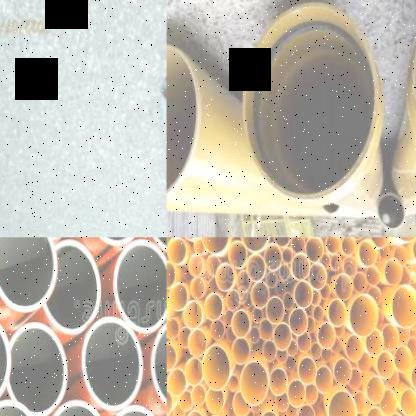pipe: (242, 3, 378, 200), (7, 322, 68, 416), (42, 240, 101, 335), (83, 317, 143, 410), (113, 240, 167, 334), (166, 44, 197, 201), (0, 237, 58, 312), (150, 318, 166, 413), (201, 345, 231, 391), (240, 360, 269, 406), (349, 294, 379, 337), (392, 285, 416, 329), (328, 389, 357, 416), (187, 328, 208, 358), (184, 300, 204, 329), (294, 280, 314, 309), (298, 356, 318, 384), (366, 376, 385, 405), (167, 368, 186, 397), (269, 367, 288, 396), (314, 365, 333, 394), (168, 282, 187, 311), (185, 357, 203, 387), (317, 321, 336, 349), (289, 308, 308, 336), (204, 293, 223, 321), (288, 379, 306, 408), (266, 296, 284, 325), (384, 258, 403, 285), (263, 243, 282, 270), (228, 241, 247, 268), (376, 351, 394, 379), (394, 345, 412, 373), (366, 329, 384, 357), (382, 323, 400, 351), (273, 322, 291, 350), (232, 310, 250, 338), (328, 299, 346, 327), (335, 273, 353, 301), (216, 263, 234, 291), (247, 253, 265, 281), (292, 252, 310, 280), (308, 263, 327, 289), (399, 387, 416, 416), (200, 237, 229, 254), (206, 388, 224, 415), (334, 358, 352, 385), (232, 338, 250, 365), (346, 335, 364, 362), (251, 282, 269, 309), (359, 239, 377, 266), (168, 237, 186, 264), (380, 388, 397, 416), (305, 238, 324, 262), (232, 391, 250, 416), (239, 237, 269, 252), (188, 254, 204, 276), (209, 319, 225, 340), (191, 385, 206, 407), (190, 278, 205, 300), (206, 255, 221, 277), (353, 391, 367, 414), (274, 392, 290, 412), (296, 332, 312, 352), (393, 245, 408, 266), (179, 390, 193, 412), (348, 368, 362, 390), (262, 340, 276, 362), (178, 326, 192, 348), (352, 271, 366, 293), (237, 270, 251, 292), (367, 286, 382, 306), (343, 256, 358, 276), (358, 352, 372, 373), (260, 319, 274, 340), (226, 290, 240, 311), (166, 342, 176, 371), (166, 260, 176, 289), (304, 384, 318, 404), (366, 266, 380, 285), (342, 237, 356, 256), (326, 237, 341, 254), (166, 318, 178, 339), (310, 341, 322, 360), (385, 372, 399, 388), (406, 336, 416, 358), (297, 404, 315, 416), (290, 238, 305, 252), (286, 340, 298, 357), (398, 327, 410, 344), (330, 254, 342, 271), (249, 326, 260, 344), (283, 292, 294, 310), (330, 338, 342, 354), (312, 306, 324, 322), (278, 264, 290, 280), (266, 271, 277, 288), (228, 374, 238, 392), (252, 308, 263, 324), (320, 284, 331, 300), (183, 266, 194, 282), (282, 247, 293, 263), (194, 238, 205, 254), (410, 362, 416, 391), (276, 349, 287, 364), (272, 238, 290, 247), (286, 356, 296, 372), (226, 326, 236, 342), (306, 316, 316, 332), (311, 290, 321, 306), (320, 253, 330, 269), (275, 281, 286, 295), (379, 245, 390, 259), (224, 310, 233, 327), (243, 292, 252, 308), (172, 404, 184, 416), (166, 388, 171, 416), (322, 349, 332, 363), (160, 78, 166, 101), (209, 277, 218, 292), (286, 404, 297, 416), (252, 402, 262, 414), (185, 410, 205, 416), (410, 314, 416, 331), (412, 238, 416, 262), (260, 411, 278, 416), (166, 238, 176, 245), (244, 410, 254, 416)
